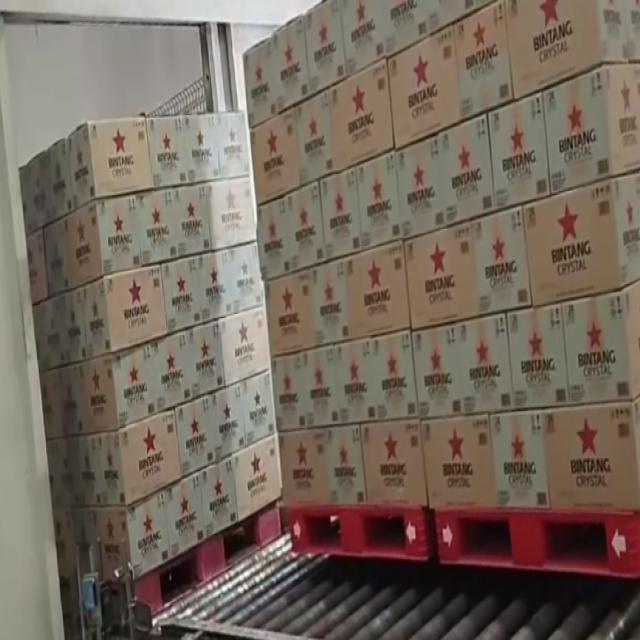pallet: (5, 61, 286, 636), (426, 0, 640, 640), (236, 0, 440, 586)
